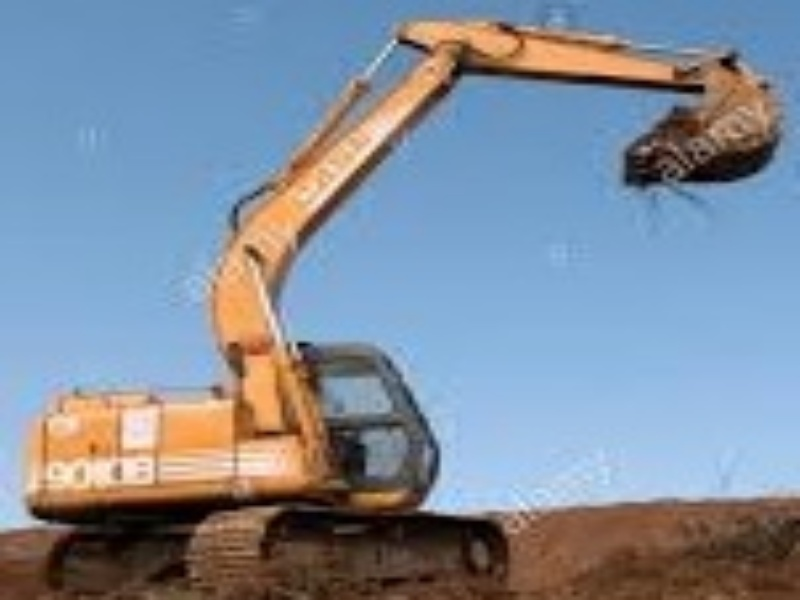wajueji: (11, 288, 551, 600)
